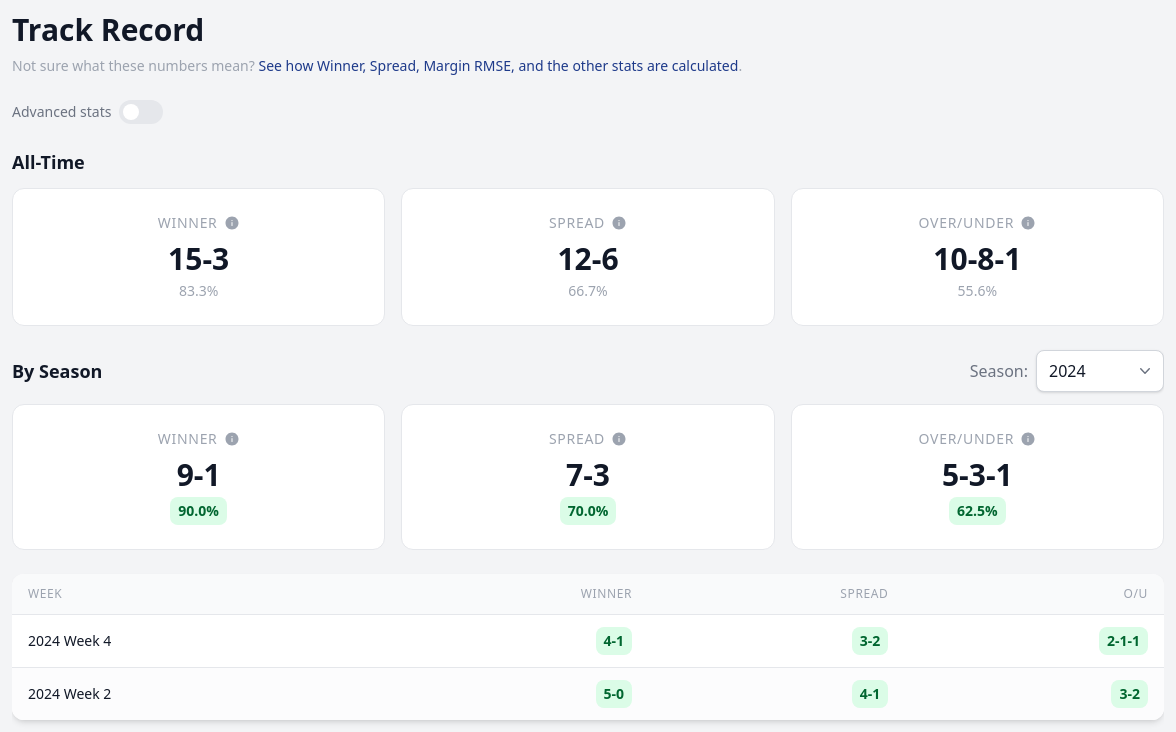
Scenario: TrackRecordPage › updates the URL when the season selector changes, so the current view can be shared
Step 1. Select "2023" in the dropdown labelled "Season:" → point(1100, 371), box [1036,350,1164,392]
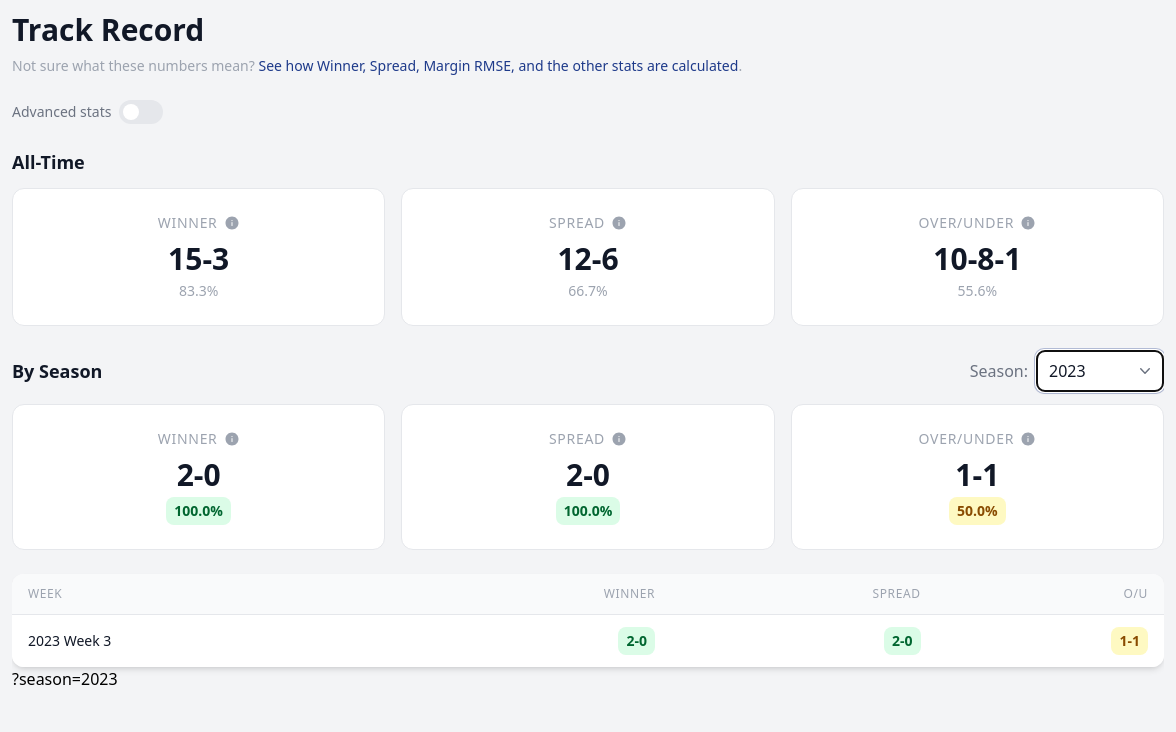
Now the text with test id "location-search" reads "?season=2023", box [12,668,118,690]
